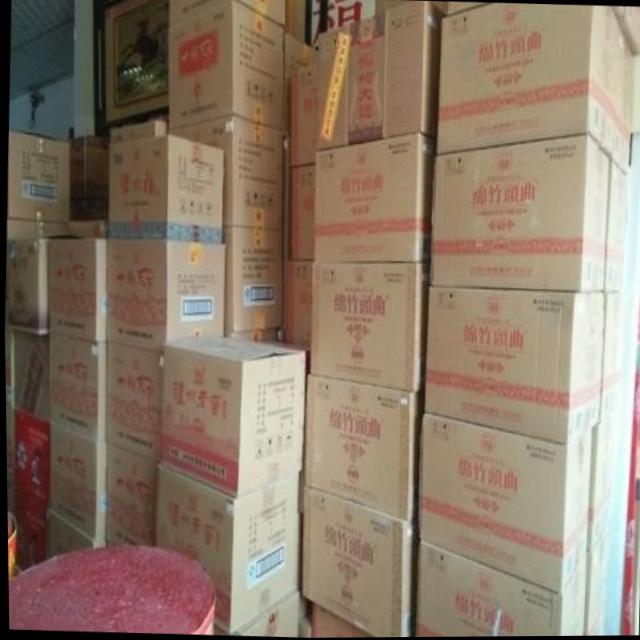box: (4, 143, 346, 418), (337, 158, 640, 439), (5, 401, 315, 637), (342, 430, 640, 638), (384, 1, 578, 166), (164, 0, 392, 114), (565, 6, 640, 169), (214, 105, 390, 160)
